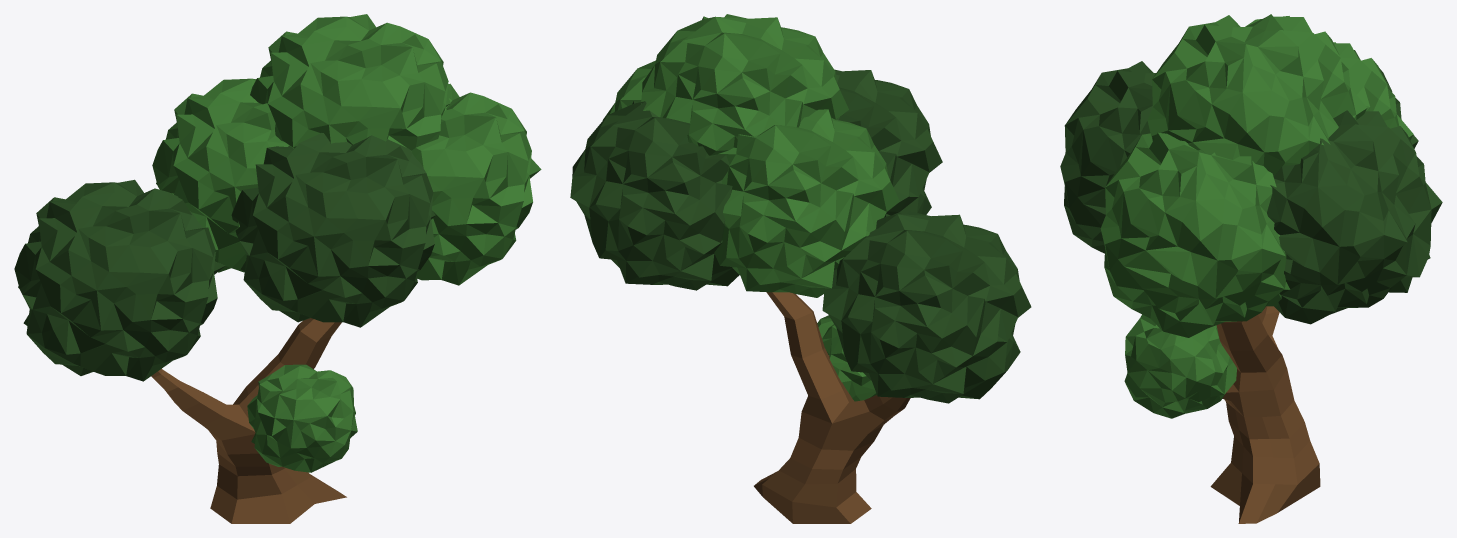
Rendered from folliage5.glb.
3 renders of one model, left to right at view 1: azimuth 30°, elevation 25°; view 2: azimuth 150°, elevation 25°; view 3: azimuth 270°, elevation 25°, orthographic. The views are drawn at different scales.
Visible parts, largest first — view 1: LowPoly Tree 07.013; view 2: LowPoly Tree 07.013; view 3: LowPoly Tree 07.013.
Part boxes in pixels (x1,y1,x2,y2): LowPoly Tree 07.013: (14, 14, 541, 523); LowPoly Tree 07.013: (570, 14, 1031, 523); LowPoly Tree 07.013: (1060, 14, 1442, 523).
Size of the model in its own units: 2.26 by 2.21 by 1.52.
